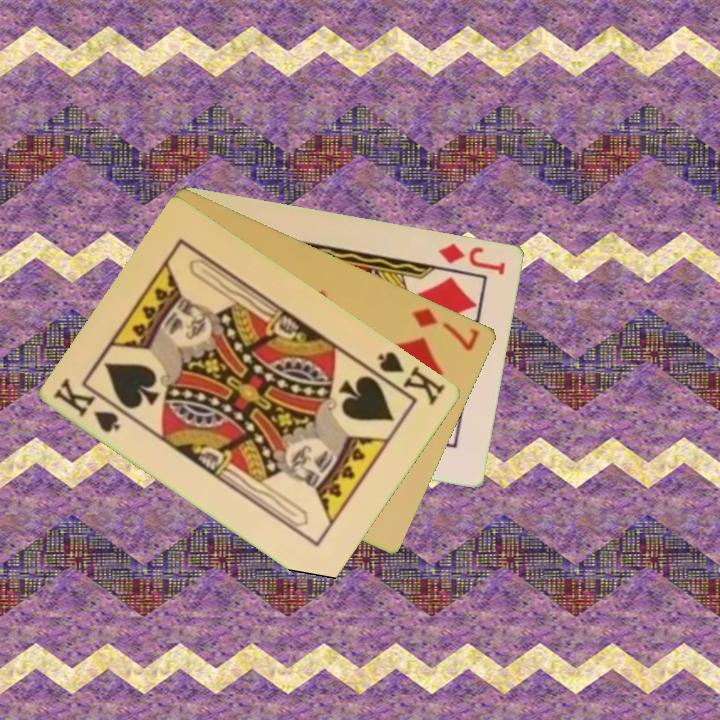7d: (408, 304, 483, 354)
Jd: (435, 239, 509, 278)
Ks: (374, 347, 449, 409), (50, 374, 124, 436)
